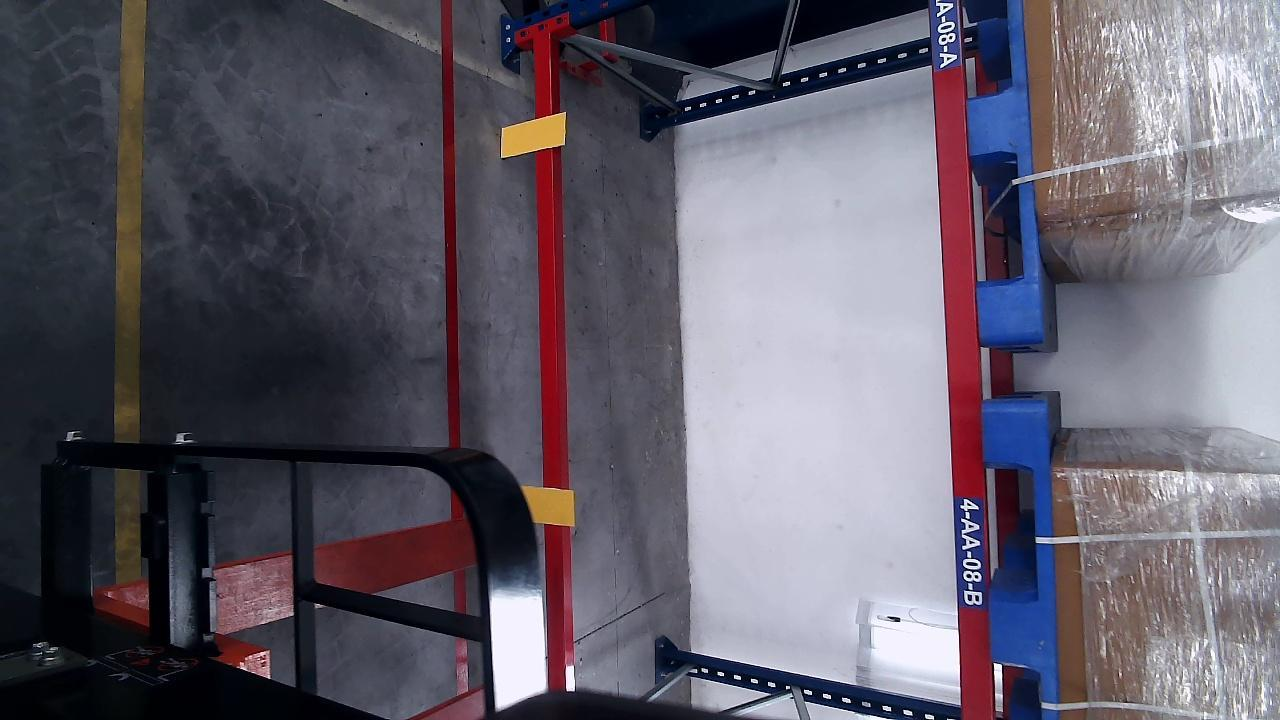h_rack: (528, 35, 568, 689)
orange_strip: (500, 111, 567, 159), (523, 488, 576, 528)
red_line: (438, 1, 464, 449)
small_pallet: (960, 0, 1048, 339), (980, 405, 1062, 718)
yellow_line: (111, 0, 149, 440)
